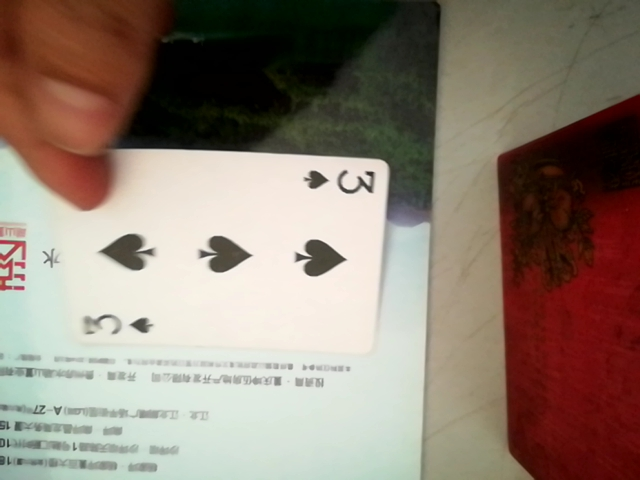ht 3: (51, 138, 402, 363)
